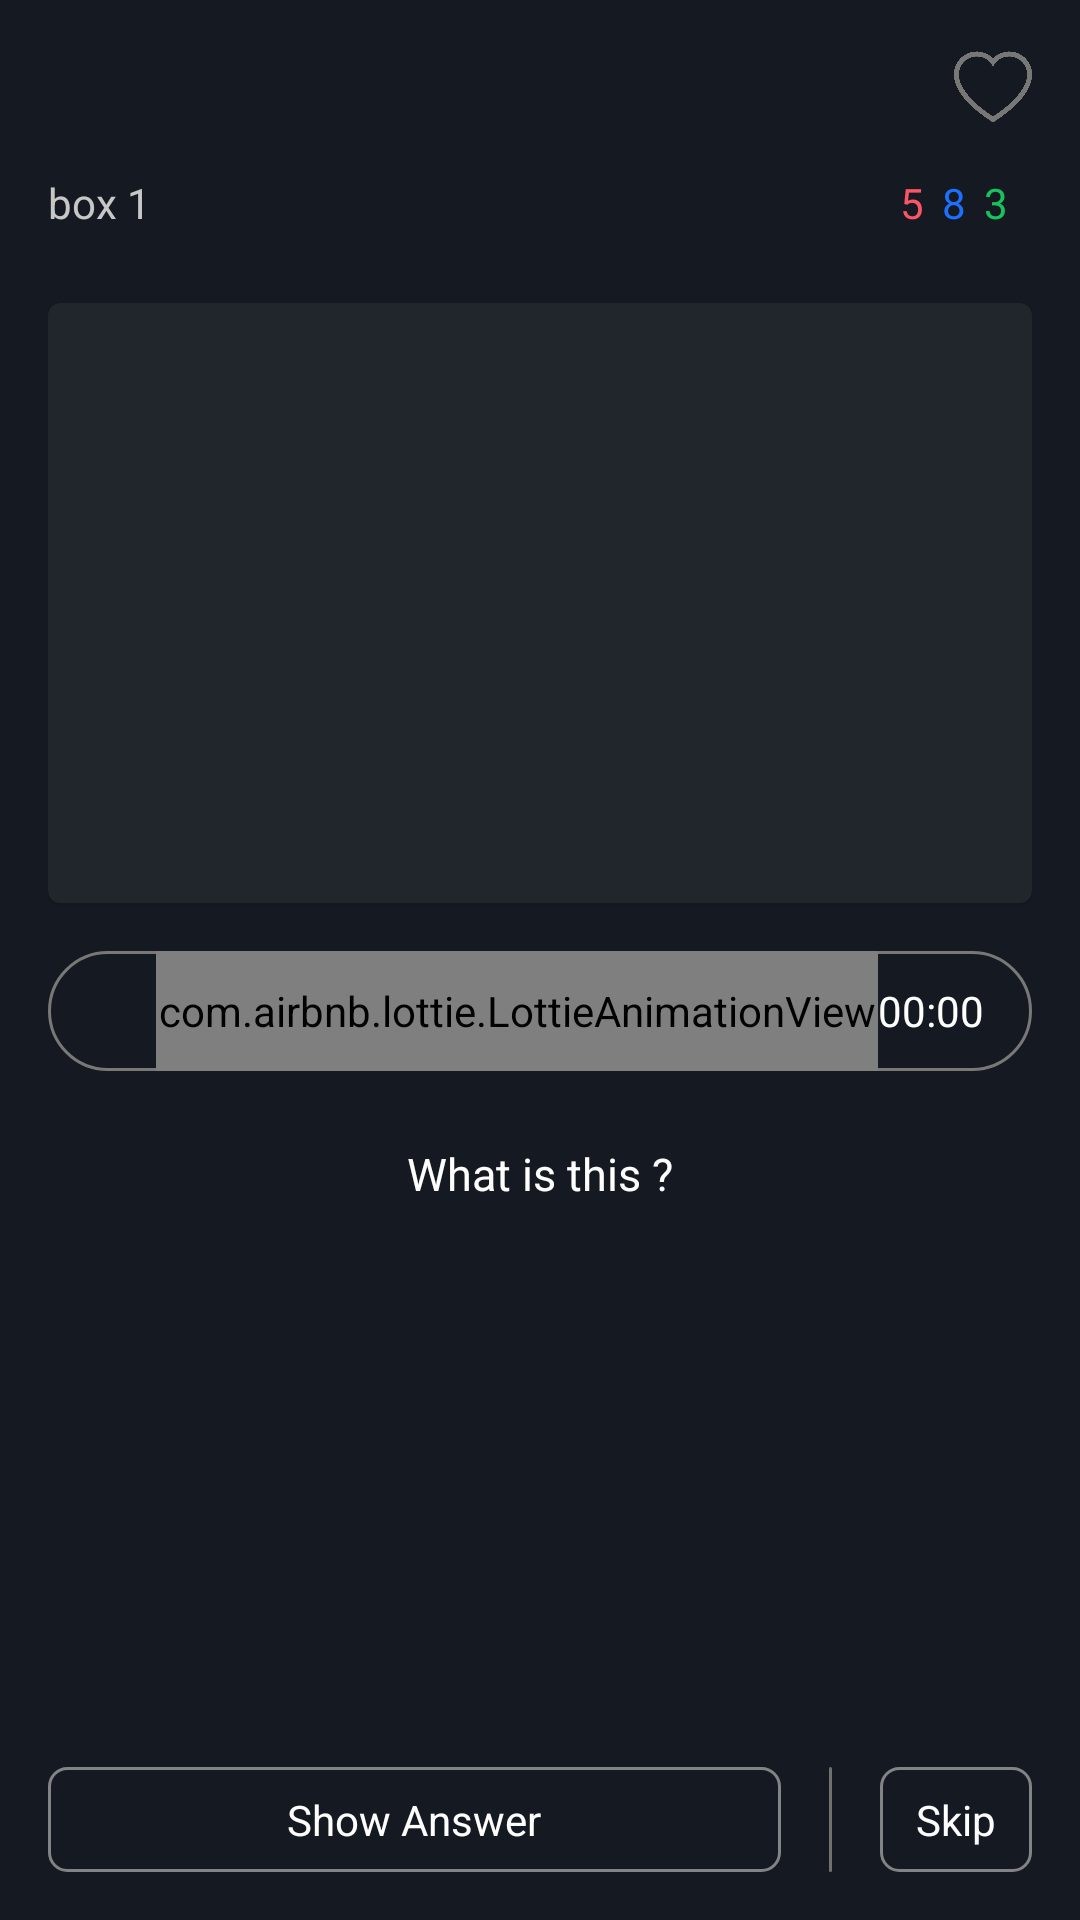

Icon bounding boxes for this 1080px x 1920px phone screenshot, format (x1, y1, x2, y2):
heart: (954, 51, 1032, 122)
